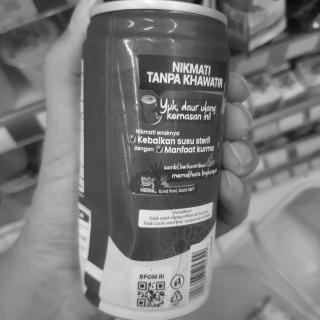alumunium_can: (75, 7, 236, 320)
